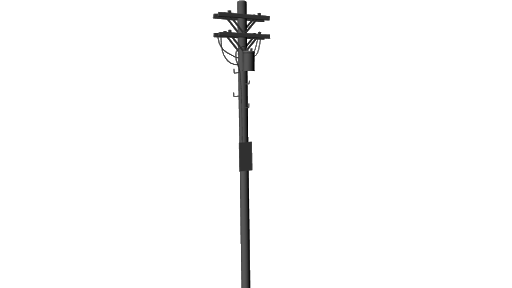utility_pole: (205, 1, 276, 60)
